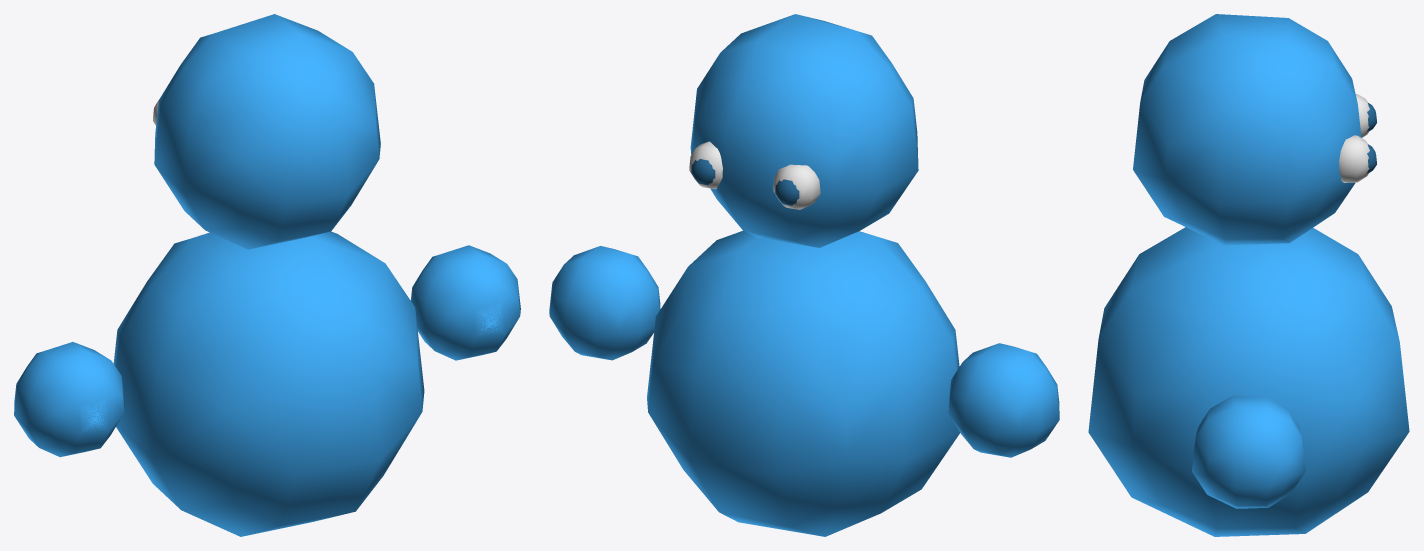
Rendered from Informant.fbx.
3 renders of one model, left to right at view 1: azimuth 30°, elevation 25°; view 2: azimuth 150°, elevation 25°; view 3: azimuth 270°, elevation 25°, orthographic. The views are drawn at different scales.
Parts seen in each view (by area): view 1: Torso, Head, TorsoFlip, Hands, HeadFlip, HandsFlip; view 2: Torso, Head, TorsoFlip, Hands, HeadFlip, HandsFlip, Eyes, Pupils_DB; view 3: Torso, Head, TorsoFlip, HeadFlip, Hands, HandsFlip, Eyes, Pupils_DB.
Part boxes in pixels (bbox=[...]): Torso: bbox=[113, 231, 424, 536]; Head: bbox=[154, 14, 380, 249]; TorsoFlip: bbox=[113, 232, 423, 536]; Hands: bbox=[14, 245, 520, 457]; HeadFlip: bbox=[154, 15, 380, 248]; HandsFlip: bbox=[14, 246, 520, 456]; Torso: bbox=[647, 230, 959, 536]; Head: bbox=[690, 14, 918, 247]; TorsoFlip: bbox=[648, 231, 959, 535]; Hands: bbox=[549, 246, 1059, 457]; HeadFlip: bbox=[691, 15, 917, 246]; HandsFlip: bbox=[550, 247, 1059, 456]; Eyes: bbox=[689, 141, 820, 209]; Pupils_DB: bbox=[691, 159, 799, 205]; Torso: bbox=[1088, 227, 1409, 536]; Head: bbox=[1133, 14, 1361, 245]; TorsoFlip: bbox=[1089, 229, 1408, 536]; HeadFlip: bbox=[1134, 14, 1360, 244]; Hands: bbox=[1192, 395, 1305, 508]; HandsFlip: bbox=[1193, 396, 1304, 508]; Eyes: bbox=[1339, 94, 1369, 182]; Pupils_DB: bbox=[1367, 103, 1376, 173].
Size of the model in its own units: 2.06 by 3.73 by 3.52.
